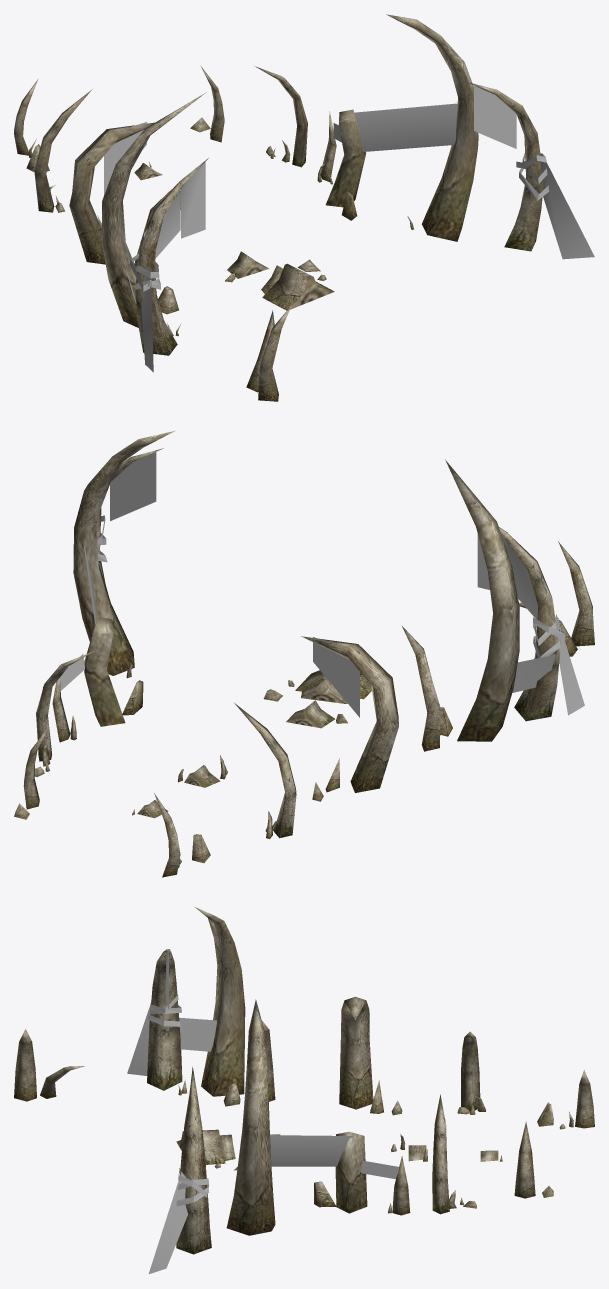
The model's file is obj_small_047.FBX.
3 renders of one model, top to bottom at view 1: azimuth 30°, elevation 25°; view 2: azimuth 150°, elevation 25°; view 3: azimuth 270°, elevation 25°, orthographic. The views are drawn at different scales.
Parts seen in each view (by area): view 1: obj_small_047_01, obj_small_047_02; view 2: obj_small_047_01, obj_small_047_02; view 3: obj_small_047_01, obj_small_047_02.
Boxes of the visible parts, x1,y1,x2,y2 form: obj_small_047_01: [14, 14, 543, 401]; obj_small_047_02: [104, 83, 594, 372]; obj_small_047_01: [14, 430, 594, 877]; obj_small_047_02: [60, 450, 584, 717]; obj_small_047_01: [14, 907, 594, 1254]; obj_small_047_02: [127, 949, 398, 1273].
Bounding box in the file's own units: 14.43 × 7.29 × 17.93.
